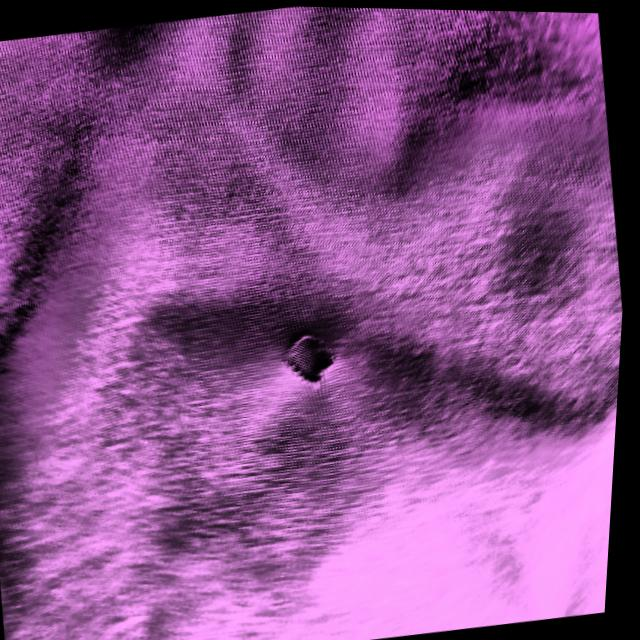Hole: (269, 309, 353, 407)
